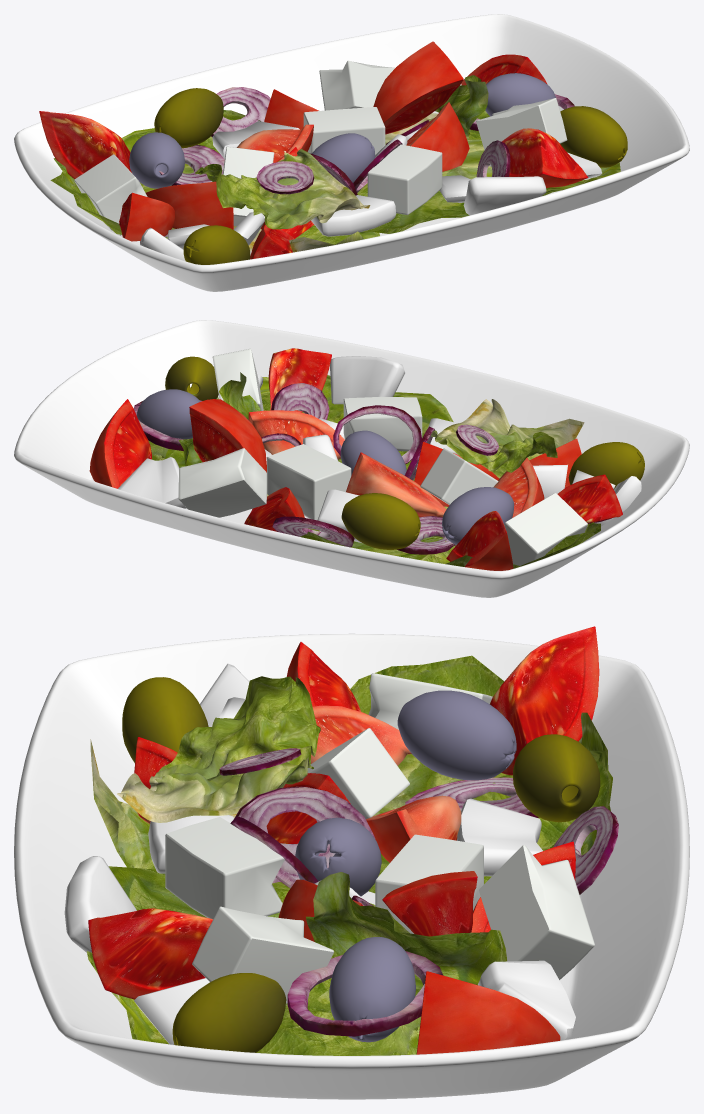
Rendered from frouit.gltf.
The picture shows the model from 3 angles, top to bottom: view 1: azimuth 30°, elevation 25°; view 2: azimuth 150°, elevation 25°; view 3: azimuth 270°, elevation 25°; orthographic projection. The views are drawn at different scales.
Visible parts, largest first — view 1: 17; view 2: 17; view 3: 17.
Part boxes in pixels (bbox=[...]): 17: bbox=[14, 14, 689, 291]; 17: bbox=[14, 320, 689, 597]; 17: bbox=[14, 626, 689, 1099].
Bounding box in the file's own units: 170 × 28.41 × 113.
8 materials, 4 textured.
